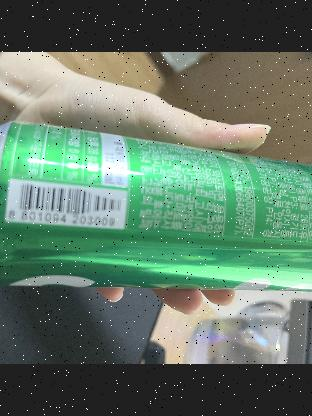Can: (0, 123, 312, 291)
